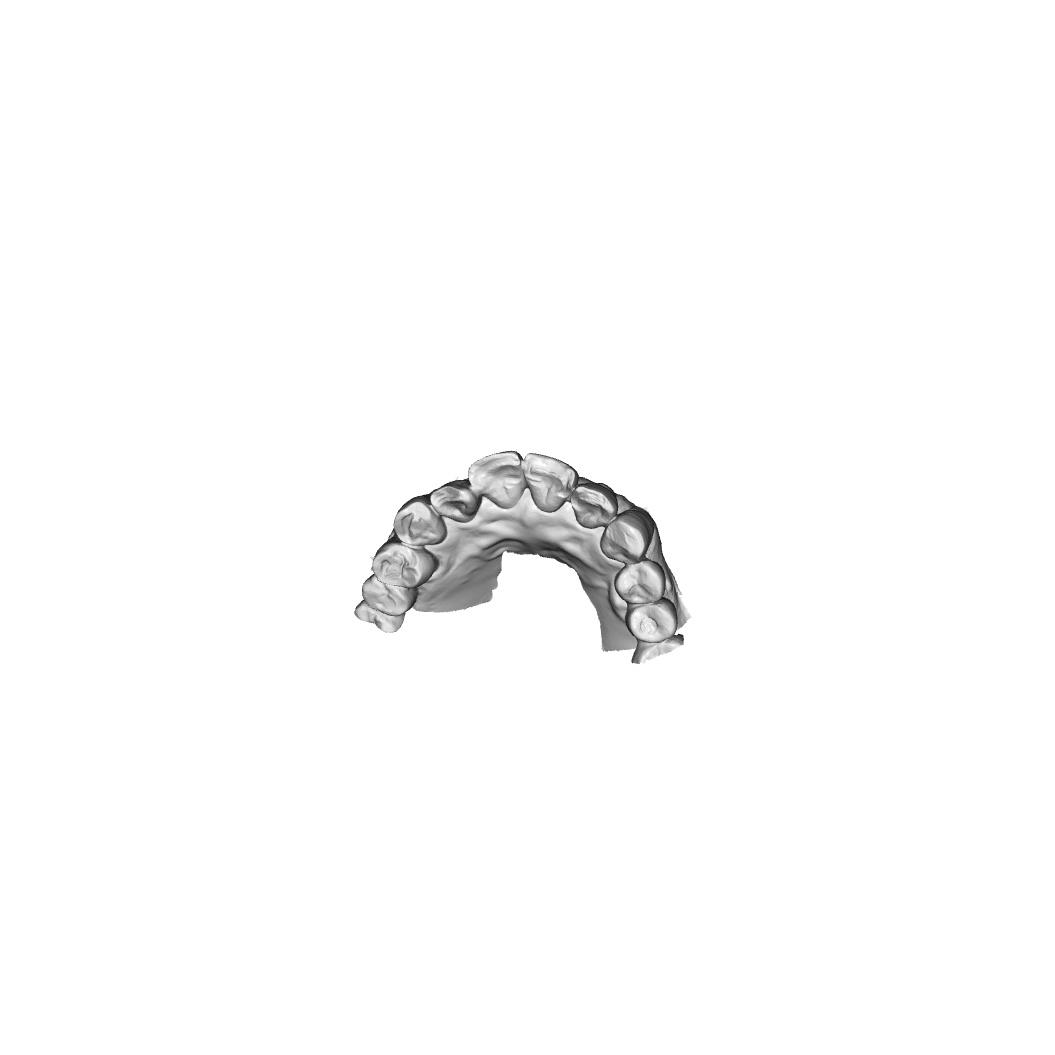canine: (599, 506, 656, 563), (392, 494, 448, 546)
incisor: (468, 450, 526, 509), (523, 452, 579, 513), (429, 477, 482, 523), (570, 481, 619, 530)
premolar: (370, 535, 437, 589), (361, 573, 419, 617), (624, 597, 677, 644), (613, 559, 667, 605)
